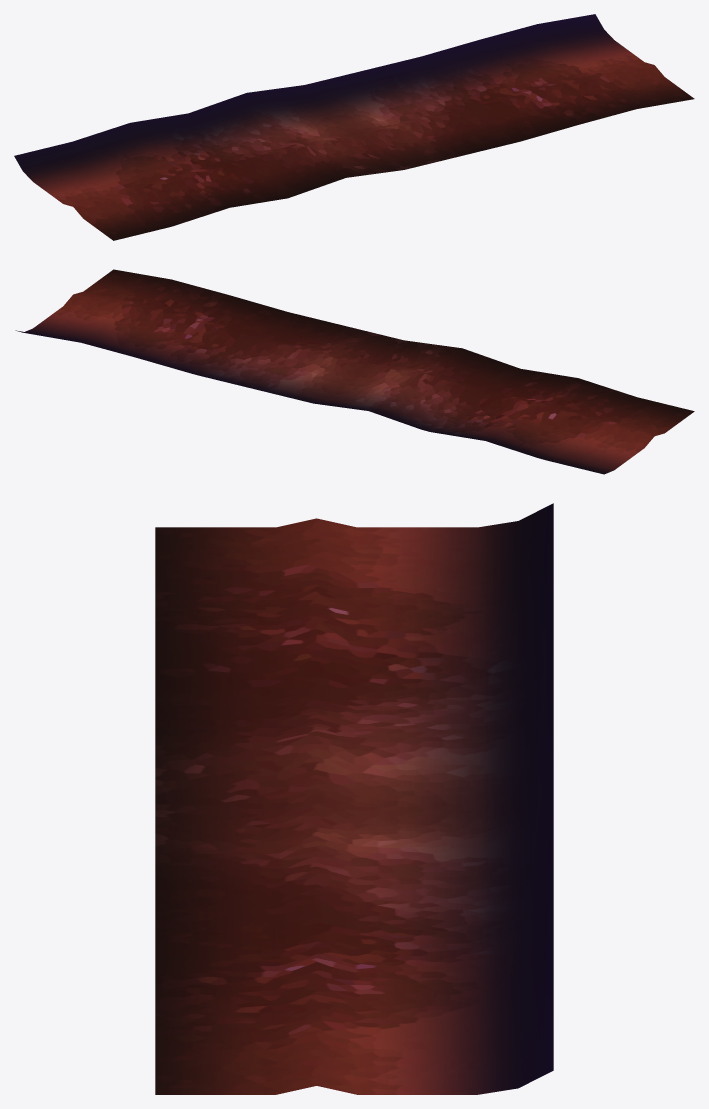
File: sol.fbx
The picture shows the model from 3 angles, top to bottom: view 1: azimuth 30°, elevation 25°; view 2: azimuth 150°, elevation 25°; view 3: azimuth 270°, elevation 25°; orthographic projection. The views are drawn at different scales.
Visible parts, largest first — view 1: sol; view 2: sol; view 3: sol.
Part boxes in pixels (bbox=[...]): sol: bbox=[14, 14, 694, 240]; sol: bbox=[15, 269, 694, 474]; sol: bbox=[155, 503, 553, 1094].
Bounding box in the file's own units: 51.91 × 1.57 × 15.4.
